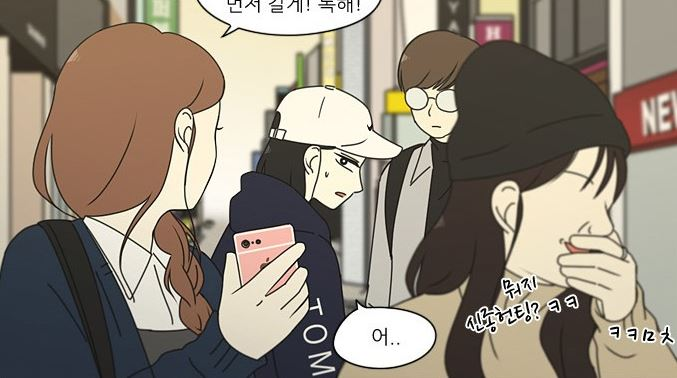hat: (270, 84, 404, 162)
